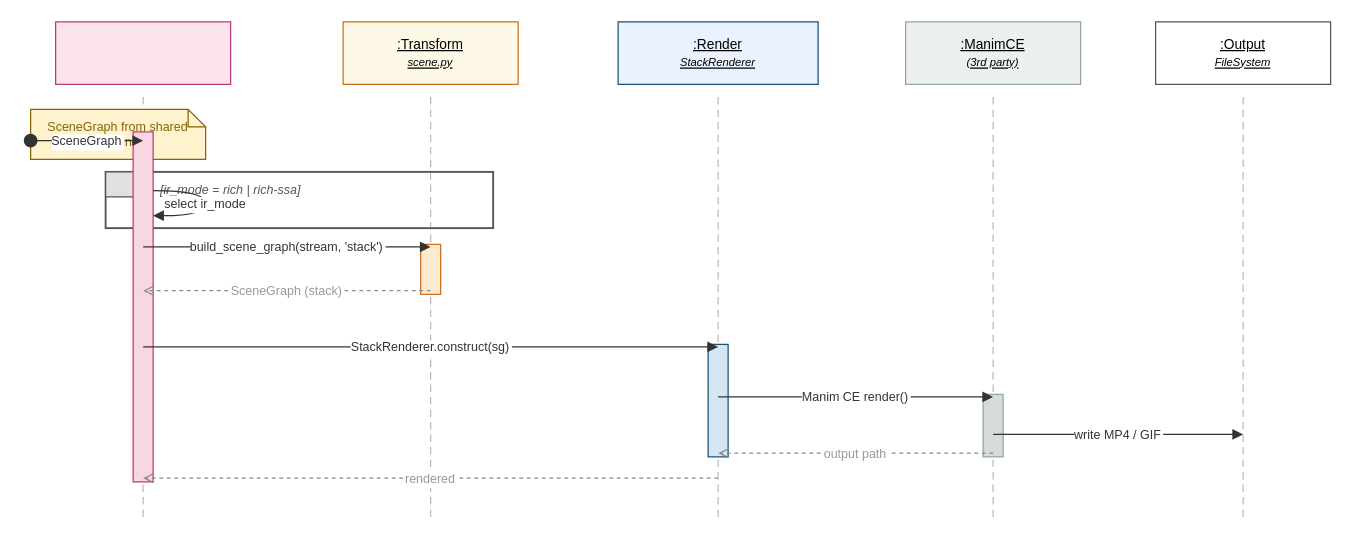
Image size: 1353x545. Some labels were removed from this diagram. The shapes that lost their labels are listed below. From the top down, each one's centre as x and y in pixels, then its label:
At point 142,52: ":CLI cli/main.py".
At point 127,184: "opt".
